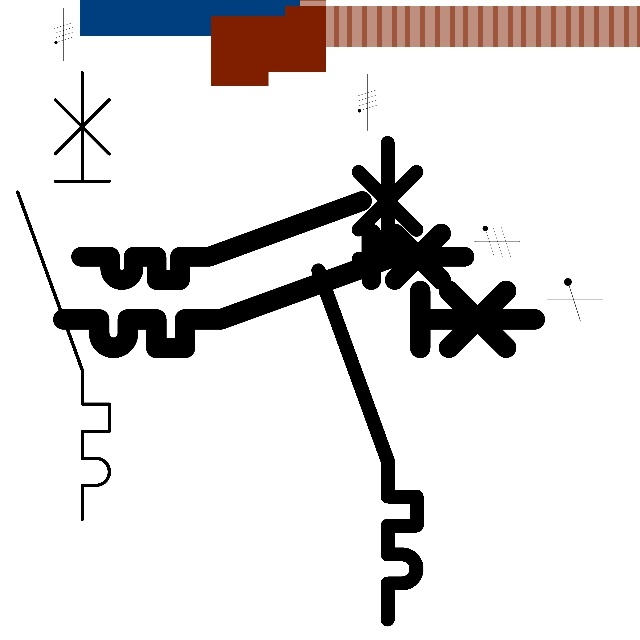interruptor_termomagnetico: (306, 130, 429, 631), (51, 239, 547, 360), (6, 61, 121, 531), (71, 191, 474, 290)
